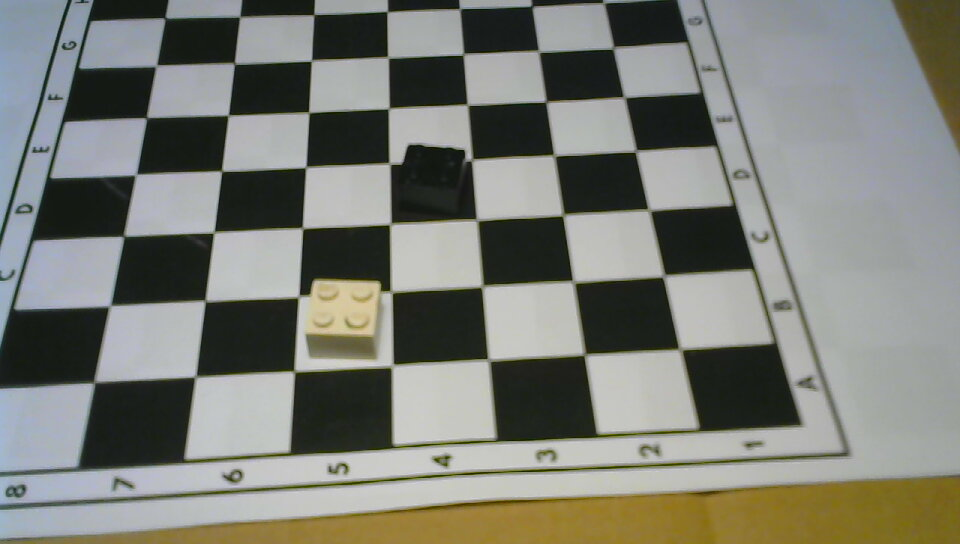bp: (398, 140, 466, 215)
wp: (304, 276, 382, 362)
